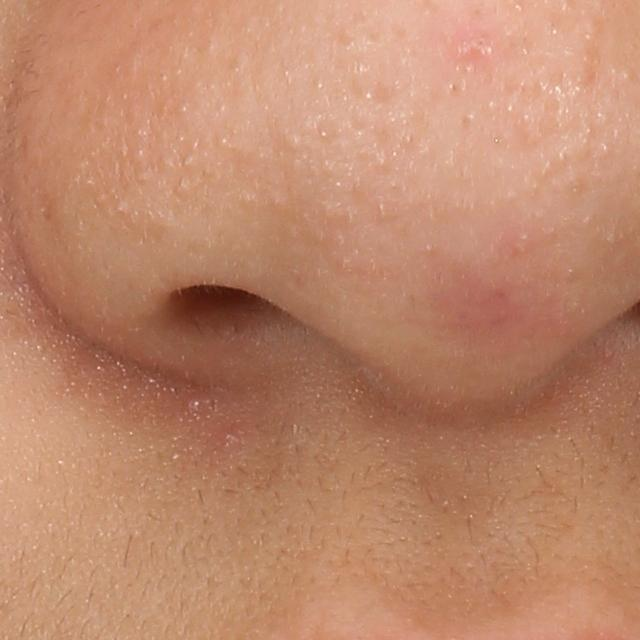comedo: (275, 127, 304, 155), (152, 147, 178, 177), (319, 150, 339, 183), (560, 172, 586, 197), (591, 134, 615, 161), (173, 175, 193, 204), (374, 147, 392, 178), (458, 109, 483, 130), (241, 189, 261, 214), (374, 193, 391, 222), (531, 158, 554, 178), (129, 167, 151, 186), (214, 129, 230, 154), (309, 73, 329, 93), (416, 141, 436, 161), (601, 228, 620, 249), (562, 264, 578, 284), (556, 144, 571, 165), (174, 99, 192, 116)
